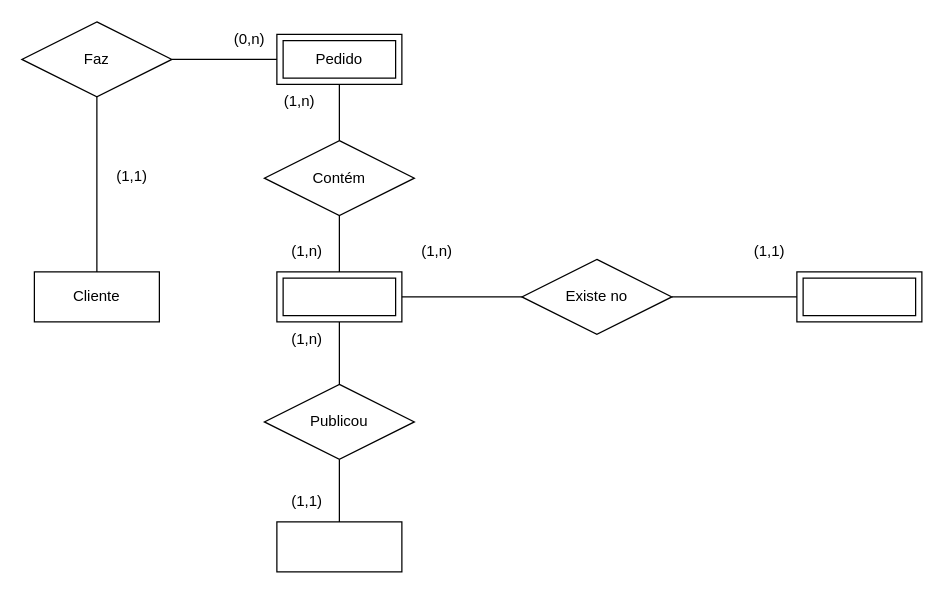
The diagram is 944 pixels wide and 594 high, and some of its shapes have lost their labels. The shapes that lost their labels are listed below. From the top down, each one's centre as x and y in pixels, then its label:
At pixel 339 296: "Livro".
At pixel 859 296: "Estoque".
At pixel 339 546: "Editora".
